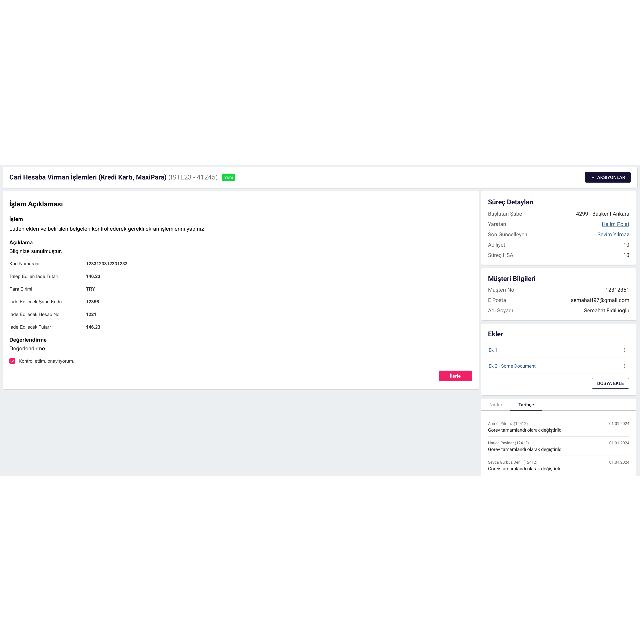QLabel: (10, 172, 166, 180), (8, 225, 205, 231), (570, 296, 630, 304), (486, 464, 566, 470), (488, 426, 564, 432), (574, 208, 630, 216), (8, 199, 64, 207), (168, 173, 218, 181), (488, 274, 536, 282), (19, 357, 75, 363), (9, 247, 63, 253), (488, 198, 534, 205), (488, 446, 566, 450), (8, 310, 59, 316), (9, 273, 59, 279), (488, 362, 536, 368), (584, 307, 630, 313), (8, 322, 54, 328), (487, 231, 527, 237), (8, 345, 46, 351), (9, 336, 47, 342), (487, 210, 523, 216), (8, 298, 62, 302), (596, 231, 630, 237), (487, 459, 538, 463), (10, 260, 40, 266), (487, 286, 515, 292), (86, 260, 128, 264), (602, 220, 630, 226), (487, 440, 529, 444), (488, 421, 528, 425), (488, 306, 514, 312), (605, 286, 629, 292), (9, 239, 33, 245), (487, 296, 509, 302), (487, 220, 507, 226), (596, 174, 626, 178), (487, 252, 515, 256), (596, 380, 624, 384), (8, 286, 34, 290), (8, 215, 24, 221), (487, 330, 503, 336), (608, 420, 630, 424), (608, 439, 630, 443), (608, 459, 630, 463), (86, 272, 100, 278), (486, 242, 506, 246), (449, 372, 461, 378), (85, 324, 101, 328), (518, 402, 534, 406), (86, 310, 96, 316), (488, 346, 498, 352), (489, 402, 503, 406), (85, 299, 98, 303), (223, 174, 233, 178), (86, 286, 94, 290), (622, 252, 630, 256), (622, 242, 630, 246)
VBtn: (584, 170, 632, 182), (591, 376, 629, 388), (438, 370, 472, 380)
VCard: (3, 189, 479, 389), (2, 165, 638, 187), (482, 190, 636, 264), (482, 323, 636, 395), (481, 267, 635, 319)
VCheckbox: (8, 356, 15, 364)
VChip: (222, 172, 234, 180)
VDivider: (486, 356, 630, 358), (488, 435, 630, 437), (488, 454, 630, 456), (488, 372, 628, 374)
VIcon: (591, 175, 595, 178), (624, 346, 626, 352), (624, 362, 626, 368)
VTabs: (481, 398, 635, 474)
